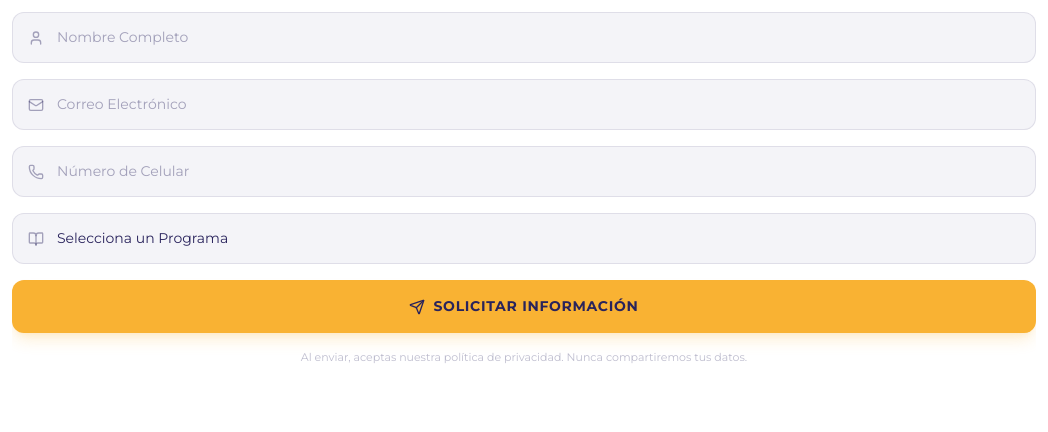
Test: LeadForm › shows API error message when result.success is false
This screenshot has width=1048, height=432.
Step 1. Type "Juan" into the field with placeholder "Nombre Completo" → [524, 38], box [12,12,1036,63]
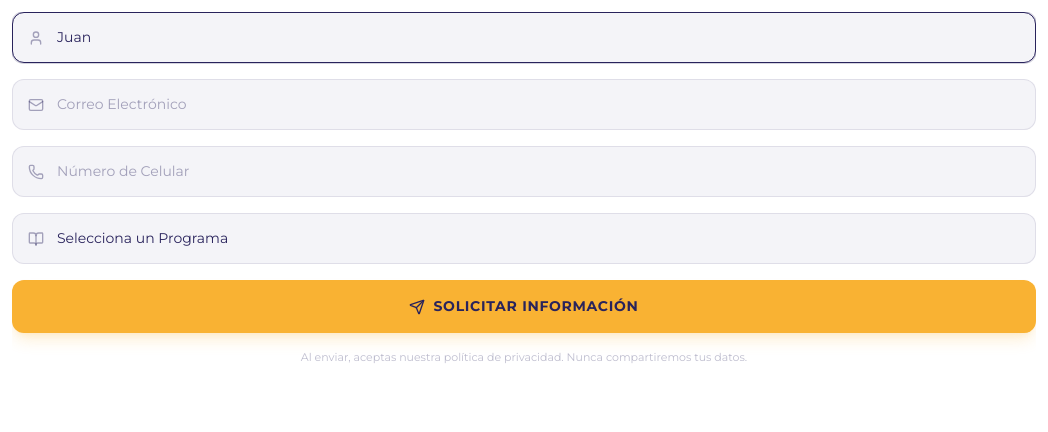
Step 2. Type "j@e.com" into the field with placeholder "Correo Electrónico" → [524, 104], box [12,79,1036,130]
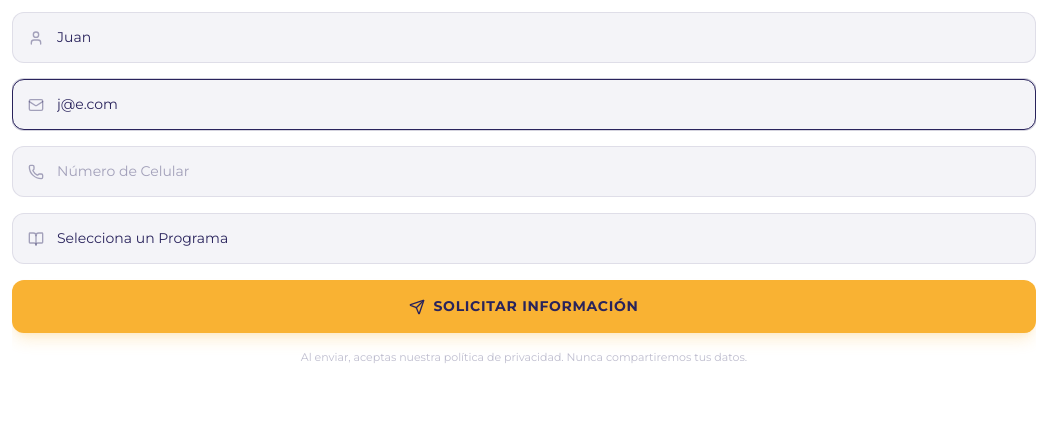
Step 3. Type "300" into the field with placeholder "Número de Celular" → [524, 172], box [12,146,1036,197]
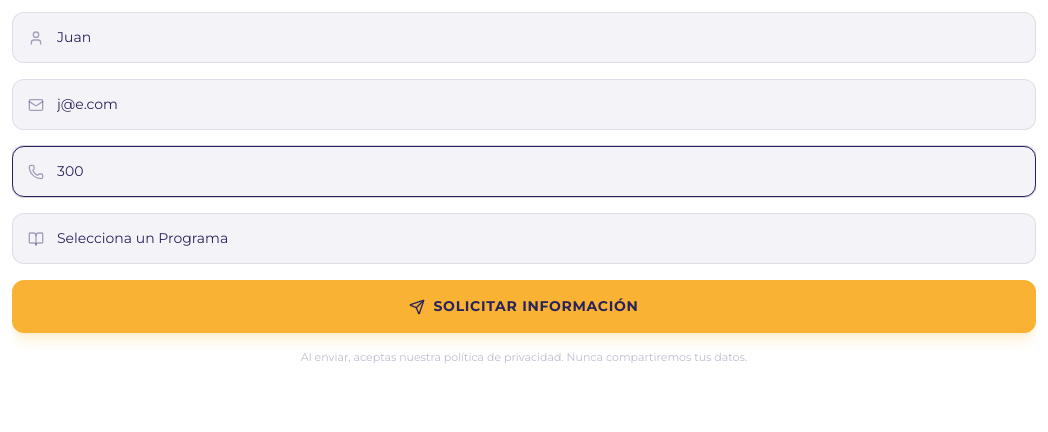
Step 4. Select "Programa de Inglés" in the dropdown → [524, 238], box [12,213,1036,264]
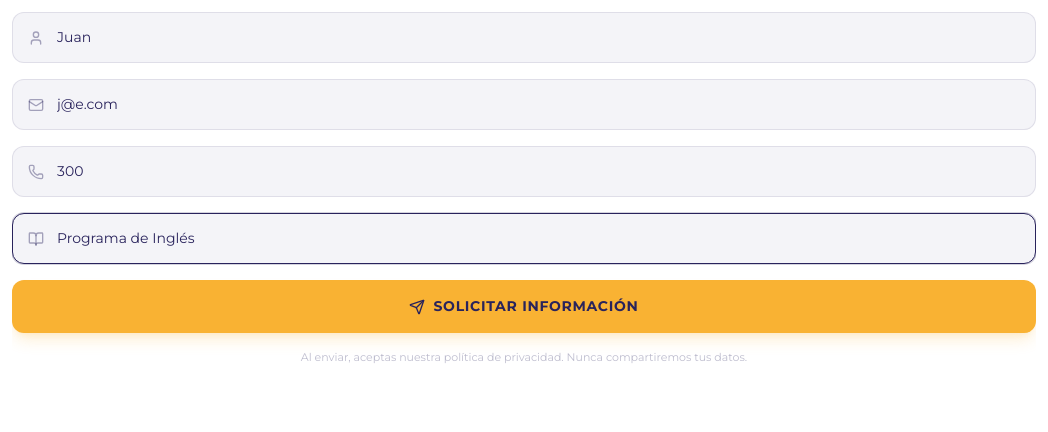
Step 5. Click the button "Solicitar Información" → [524, 306], box [12,280,1036,333]
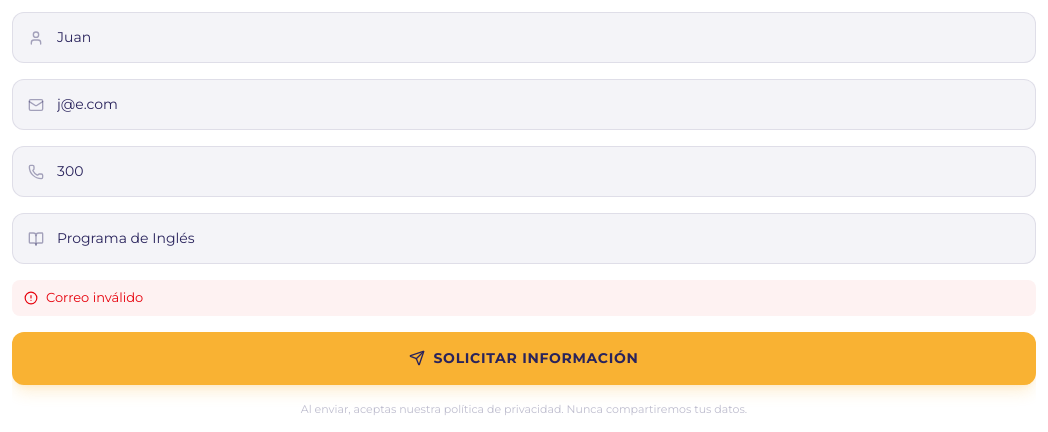
Check: the text "Correo inválido" is shown, box [12,280,1036,316]
